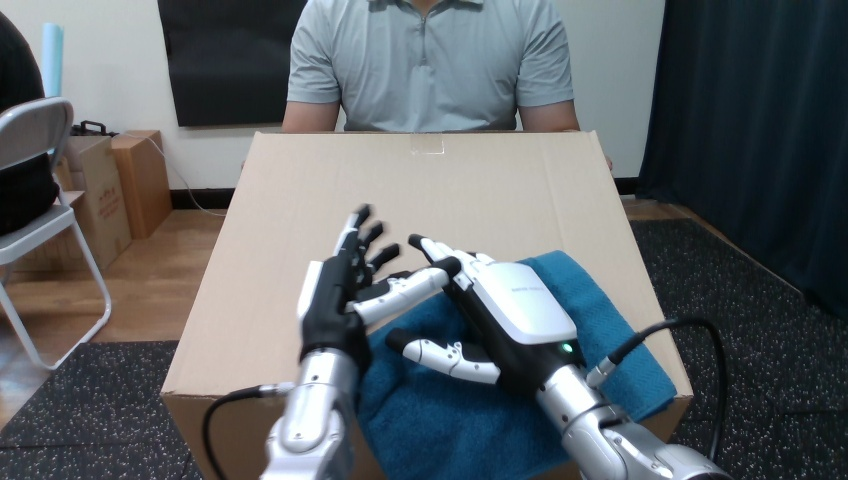left robot hand: (386, 234, 729, 479)
